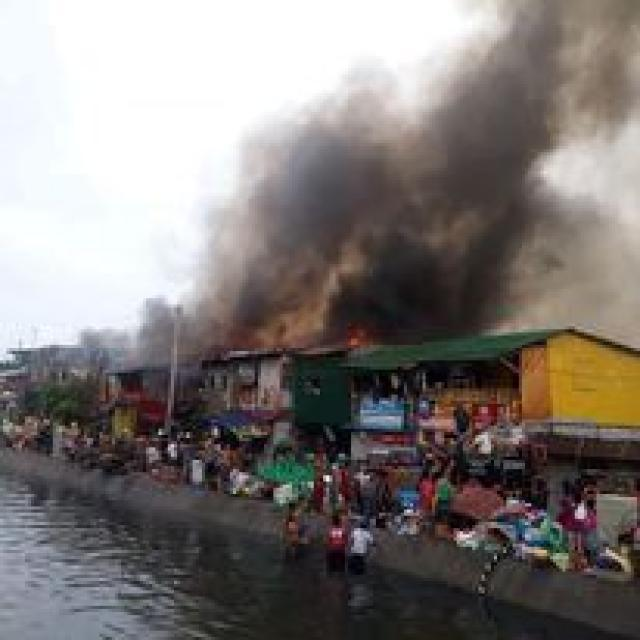Fire: (340, 328, 366, 351)
Smoke: (121, 0, 640, 357)
